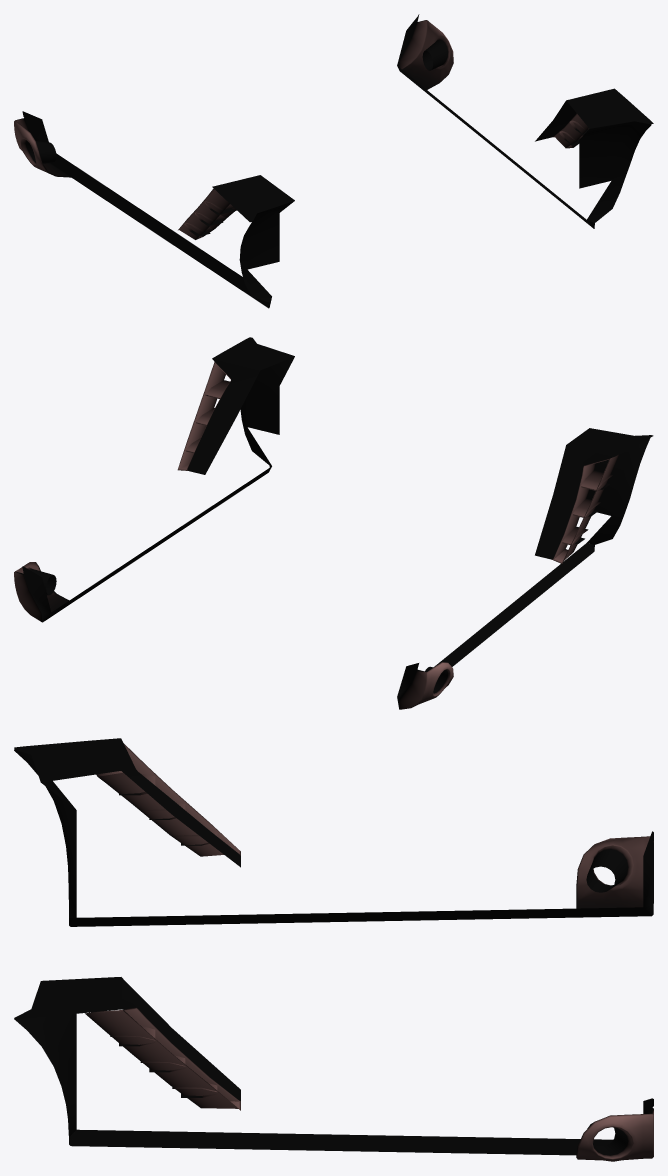
The model's file is Viper_Skirt_01_Trim.fbx.
3 renders of one model, top to bottom at view 1: azimuth 30°, elevation 25°; view 2: azimuth 150°, elevation 25°; view 3: azimuth 270°, elevation 25°, orthographic. The views are drawn at different scales.
Parts seen in each view (by area): view 1: Viper_Skirt_01_Trim; view 2: Viper_Skirt_01_Trim; view 3: Viper_Skirt_01_Trim.
Part boxes in pixels (left/top/right/bottom): Viper_Skirt_01_Trim: left=14, top=14, right=653, bottom=308; Viper_Skirt_01_Trim: left=14, top=337, right=653, bottom=709; Viper_Skirt_01_Trim: left=14, top=738, right=653, bottom=1161.
Bounding box in the file's own units: 191 × 51.38 × 183.
